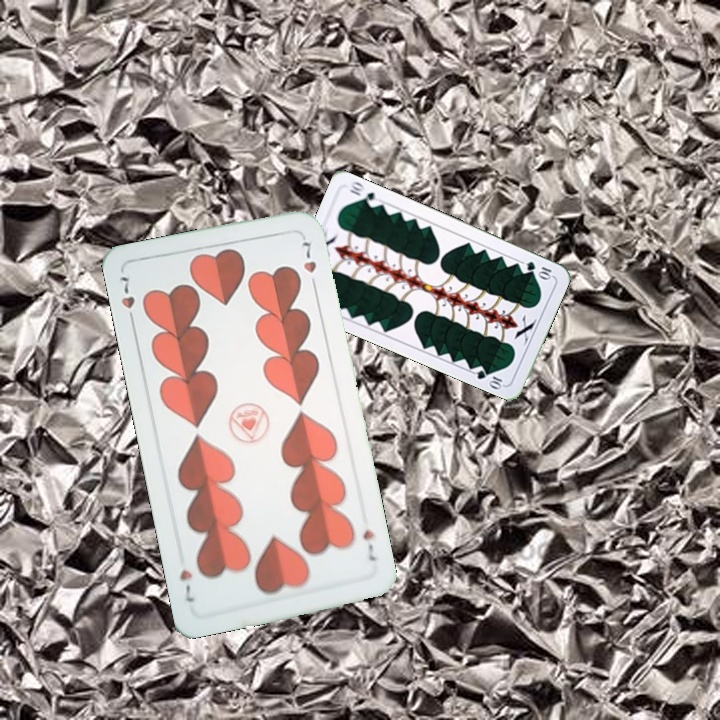G10: (522, 257, 555, 282)
H7: (115, 272, 138, 328), (358, 524, 379, 564)
